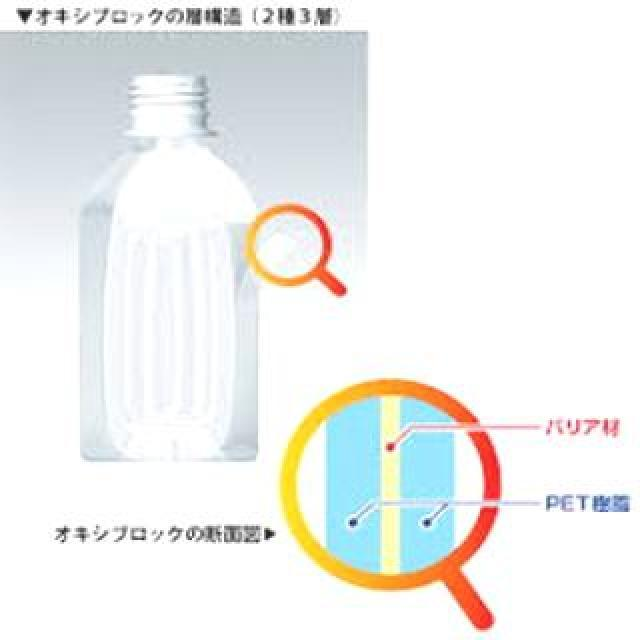Pet_Bottle: (73, 63, 261, 469)
